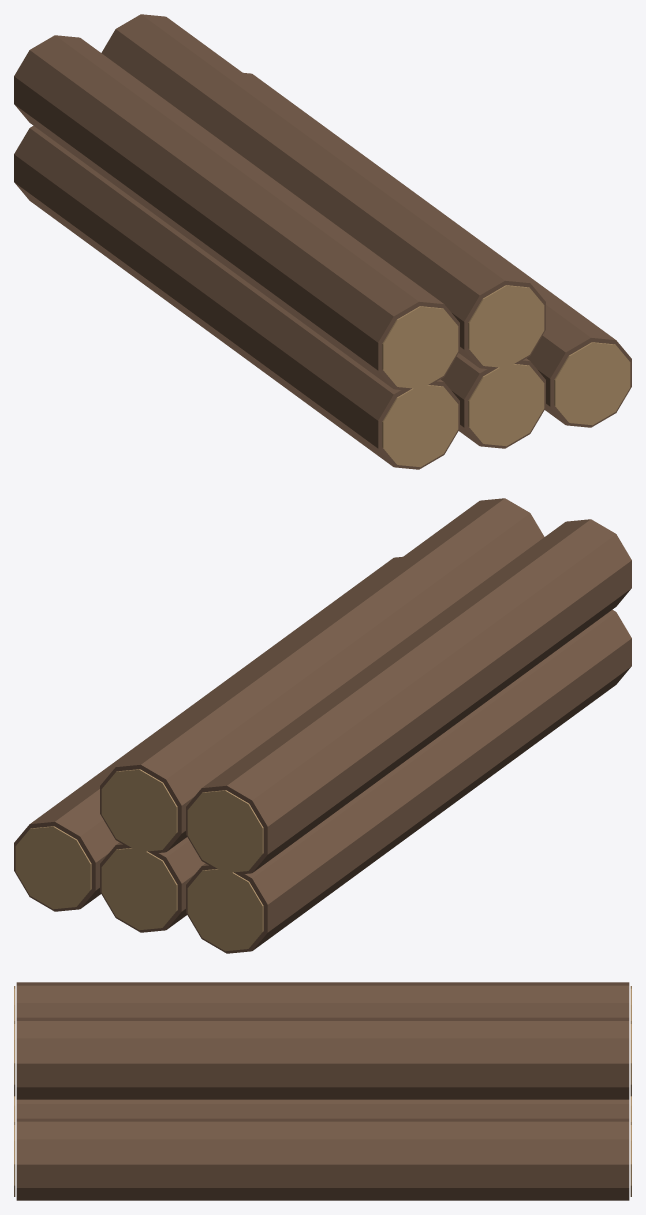
The model's file is log-stack.glb.
The picture shows the model from 3 angles, top to bottom: view 1: azimuth 30°, elevation 25°; view 2: azimuth 150°, elevation 25°; view 3: azimuth 270°, elevation 25°; orthographic projection. The views are drawn at different scales.
Visible parts, largest first — view 1: Stacked log.003, Stacked log.004, Stacked log, Stacked log.002, End grain.004, End grain.002, End grain, End grain.008, End grain.006, Stacked log.001; view 2: Stacked log.003, Stacked log.004, Stacked log, Stacked log.002, End grain.005, End grain.007, End grain.009, End grain.001, End grain.003, Stacked log.001; view 3: Stacked log.002, Stacked log.004, Stacked log.003, Stacked log.001.
Boxes of the visible parts, box(x1,y1,x2,y2) form: Stacked log.003: box(14, 35, 459, 389); Stacked log.004: box(101, 14, 545, 369); Stacked log: box(14, 126, 459, 469); Stacked log.002: box(243, 72, 631, 427); End grain.004: box(554, 342, 630, 425); End grain.002: box(468, 363, 544, 446); End grain: box(382, 384, 458, 467); End grain.008: box(468, 285, 544, 367); End grain.006: box(382, 306, 458, 388); Stacked log.001: box(440, 353, 545, 448); Stacked log.003: box(186, 519, 631, 873); Stacked log.004: box(100, 498, 544, 853); Stacked log: box(186, 610, 631, 953); Stacked log.002: box(14, 556, 402, 911); End grain.005: box(15, 826, 91, 909); End grain.007: box(187, 790, 263, 873); End grain.009: box(101, 769, 177, 851); End grain.001: box(187, 868, 263, 951); End grain.003: box(101, 848, 177, 930); Stacked log.001: box(100, 837, 205, 932); Stacked log.002: box(16, 1118, 629, 1200); Stacked log.004: box(16, 1017, 629, 1099); Stacked log.003: box(16, 982, 629, 1017); Stacked log.001: box(16, 1099, 629, 1118).
Bounding box in the file's own units: 1.77 × 1.12 × 4.44.
